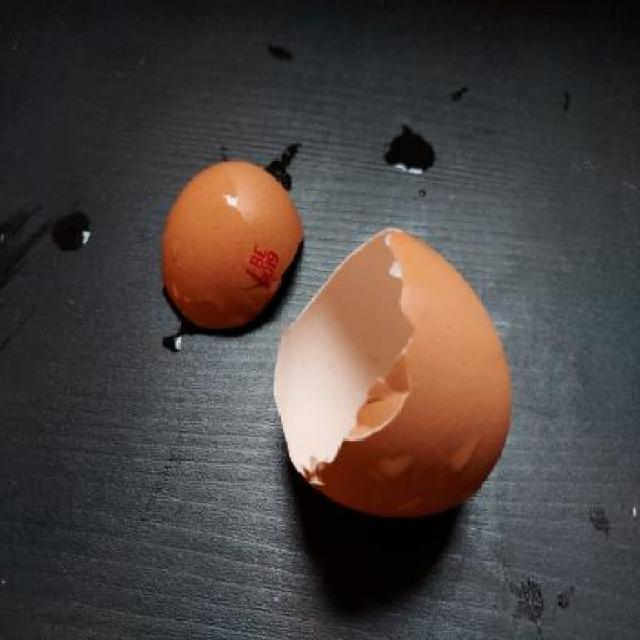biodegradable: (272, 226, 517, 520), (160, 158, 312, 330)
